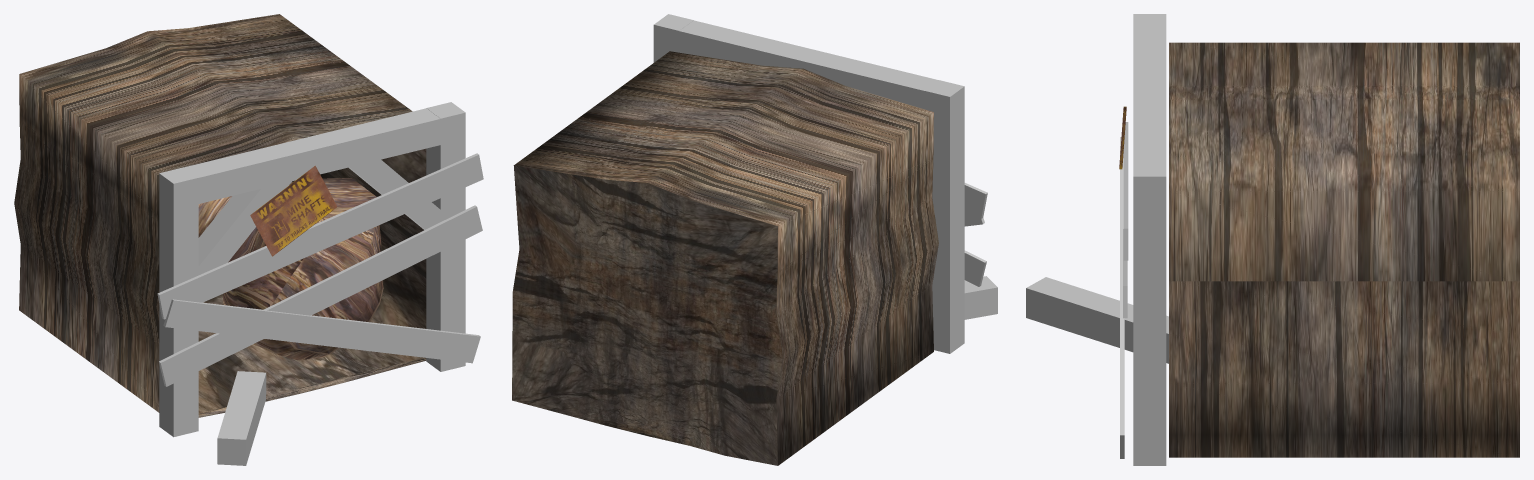
Rendered from mine_fbx.fbx.
3 renders of one model, left to right at view 1: azimuth 30°, elevation 25°; view 2: azimuth 150°, elevation 25°; view 3: azimuth 270°, elevation 25°, orthographic. The views are drawn at different scales.
Visible parts, largest first — view 1: tunel, support, planche, planche2, roche1, planche1, support4, support1, sign, support_tomber, support2, support3 (+1 smaller); view 2: tunel, support4, support, support_tomber, support1, planche2, planche1; view 3: tunel, support1, support_tomber, support, planche, planche2.
Boxes of the visible parts, box(x1,y1,x2,y2) form: tunel: box(14, 14, 426, 417); support: box(185, 108, 440, 203); planche: box(163, 299, 480, 363); planche2: box(157, 153, 483, 319); roche1: box(222, 178, 383, 360); planche1: box(159, 205, 482, 386); support4: box(159, 167, 198, 437); support1: box(426, 102, 465, 371); sign: box(250, 165, 337, 256); support_tomber: box(217, 371, 266, 465); support2: box(198, 181, 291, 275); support3: box(348, 159, 440, 229); tunel: box(512, 51, 938, 465); support4: box(924, 80, 964, 353); support: box(679, 20, 938, 109); support_tomber: box(964, 276, 997, 319); support1: box(653, 14, 693, 62); planche2: box(964, 183, 987, 218); planche1: box(964, 250, 986, 286); tunel: box(1169, 42, 1519, 457); support1: box(1133, 162, 1166, 465); support_tomber: box(1026, 277, 1168, 363); support: box(1133, 28, 1166, 162); planche: box(1120, 137, 1124, 458); planche2: box(1123, 122, 1128, 260).
Size of the model in its own units: 732 by 554 by 846.
